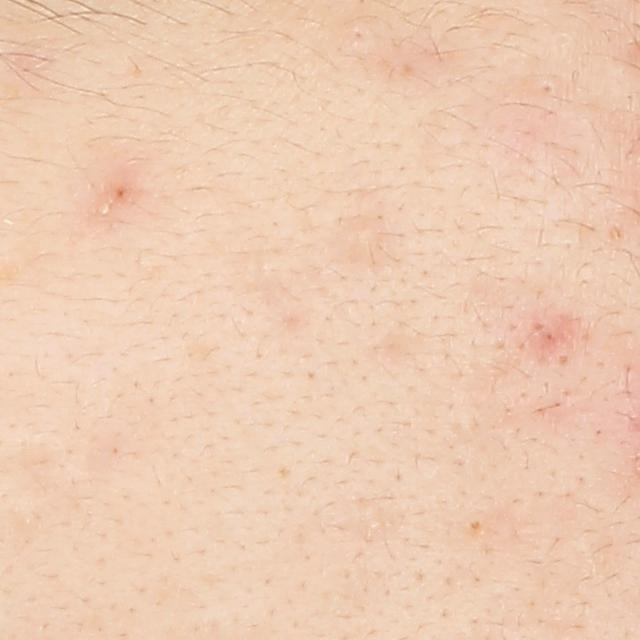comedo: (459, 512, 486, 538), (538, 73, 559, 95), (349, 24, 370, 44)
